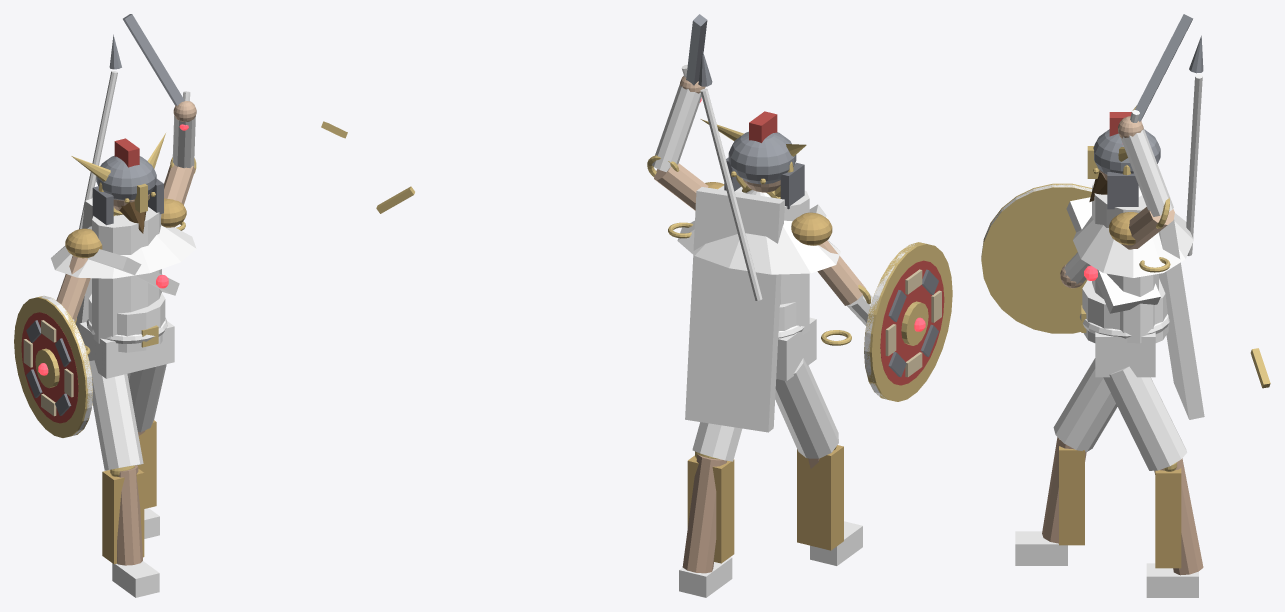
The model's file is galo_warrior_v3.glb.
3 renders of one model, left to right at view 1: azimuth 30°, elevation 25°; view 2: azimuth 150°, elevation 25°; view 3: azimuth 270°, elevation 25°, orthographic. The views are drawn at different scales.
Parts seen in each view (by area): view 1: Torso, ThighL, ShieldRim, FurMantle, Hips, ShieldPaint, ShinL, GreaveL, Helmet, ThighR, Skirt, BootL (+15 smaller); view 2: Cape, ShieldRim, FurMantle, GreaveL, ThighL, ShinR, ShieldPaint, Helmet, GreaveR, ForeR, Torso, SpearShaft (+11 smaller); view 3: ShieldRim, ThighR, Cape, FurMantle, ThighL, Torso, GreaveR, GreaveL, Hips, ForeR, Baldric, Skirt (+14 smaller).
Part boxes in pixels (x1,y1,x2,y2): Torso: [92, 207, 161, 343]; ThighL: [89, 360, 143, 470]; ShieldRim: [14, 296, 92, 437]; FurMantle: [51, 225, 196, 278]; Hips: [79, 321, 174, 378]; ShieldPaint: [21, 312, 78, 423]; ShinL: [117, 465, 142, 565]; GreaveL: [102, 469, 144, 564]; Helmet: [96, 155, 156, 200]; ThighR: [127, 364, 166, 432]; Skirt: [88, 293, 165, 352]; BootL: [112, 561, 159, 597]; Cape: [685, 187, 784, 432]; ShieldRim: [864, 242, 952, 401]; FurMantle: [677, 190, 840, 274]; GreaveL: [797, 445, 843, 550]; ThighL: [775, 358, 838, 458]; ShinR: [682, 454, 726, 573]; ShieldPaint: [880, 260, 944, 385]; Helmet: [728, 131, 796, 184]; GreaveR: [687, 455, 734, 563]; ForeR: [652, 84, 701, 172]; Torso: [718, 185, 809, 334]; SpearShaft: [700, 88, 762, 300]; ShieldRim: [981, 183, 1091, 333]; ThighR: [1103, 366, 1187, 470]; Cape: [1158, 219, 1204, 419]; FurMantle: [1073, 186, 1193, 277]; ThighL: [1053, 358, 1117, 451]; Torso: [1092, 181, 1158, 343]; GreaveR: [1155, 468, 1181, 568]; GreaveL: [1059, 446, 1084, 545]; Hips: [1095, 332, 1155, 377]; ForeR: [1120, 128, 1173, 216]; Baldric: [1066, 197, 1160, 313]; Skirt: [1082, 278, 1168, 342].
Size of the model in its own units: 1.98 by 2.43 by 1.1.
